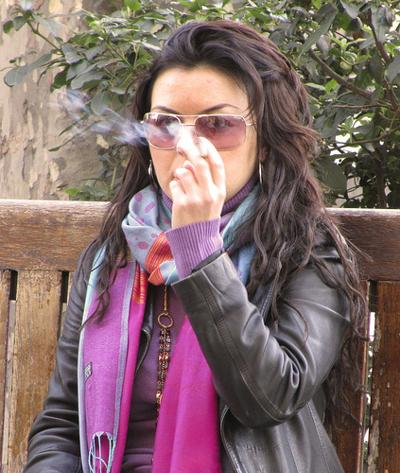person: (21, 19, 357, 473)
